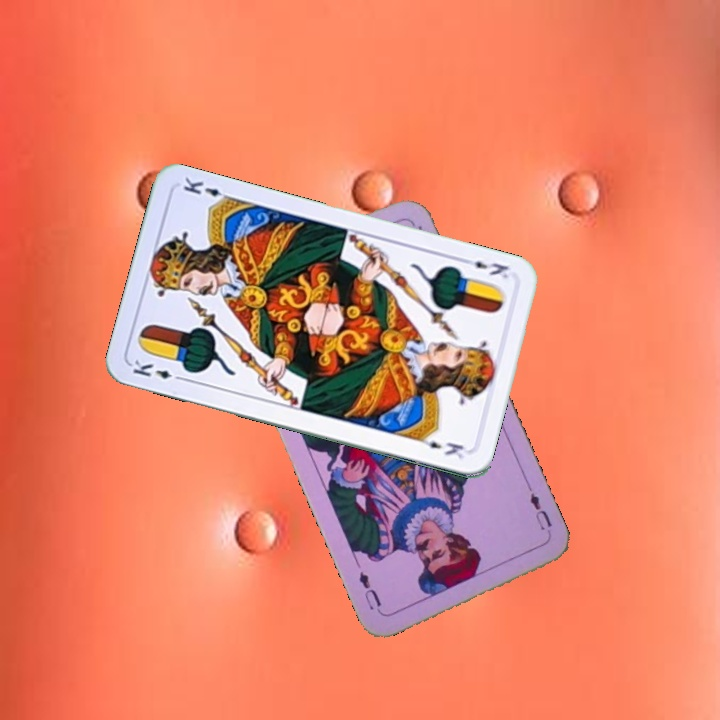EK: (128, 356, 187, 383), (458, 254, 511, 281)
EU: (524, 483, 555, 540)
